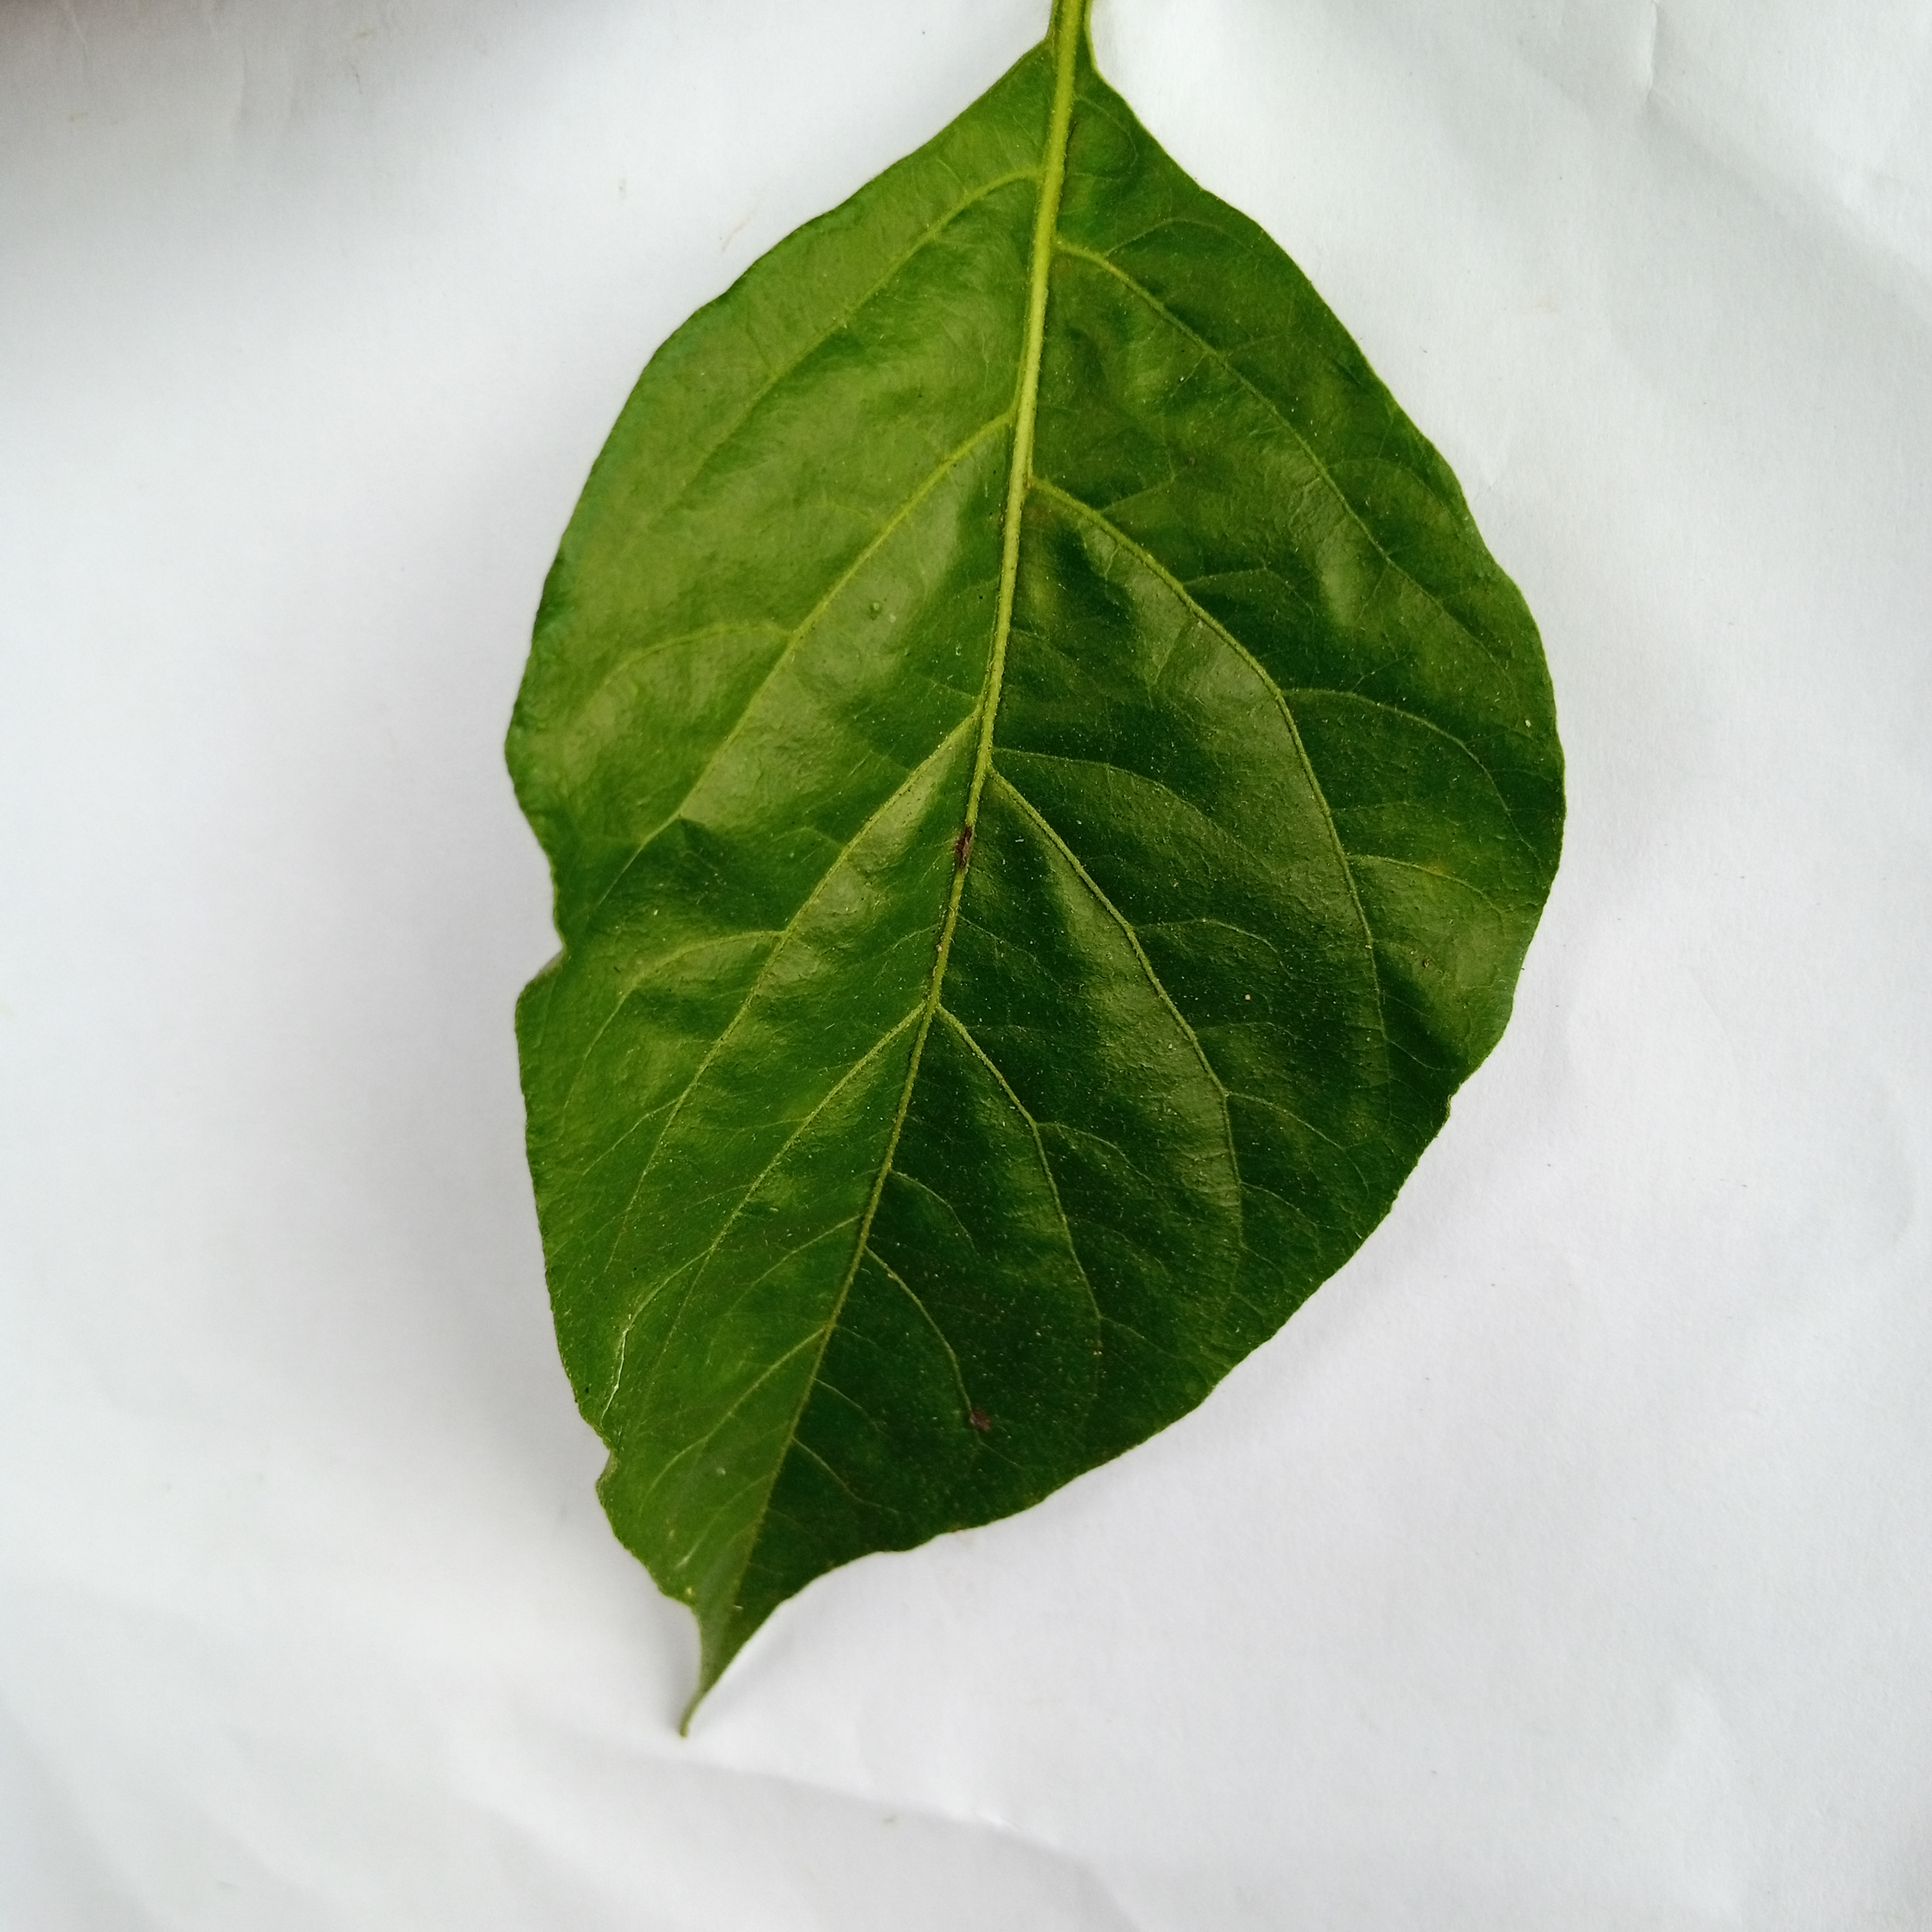Leaf: (341, 4, 1622, 1801)
